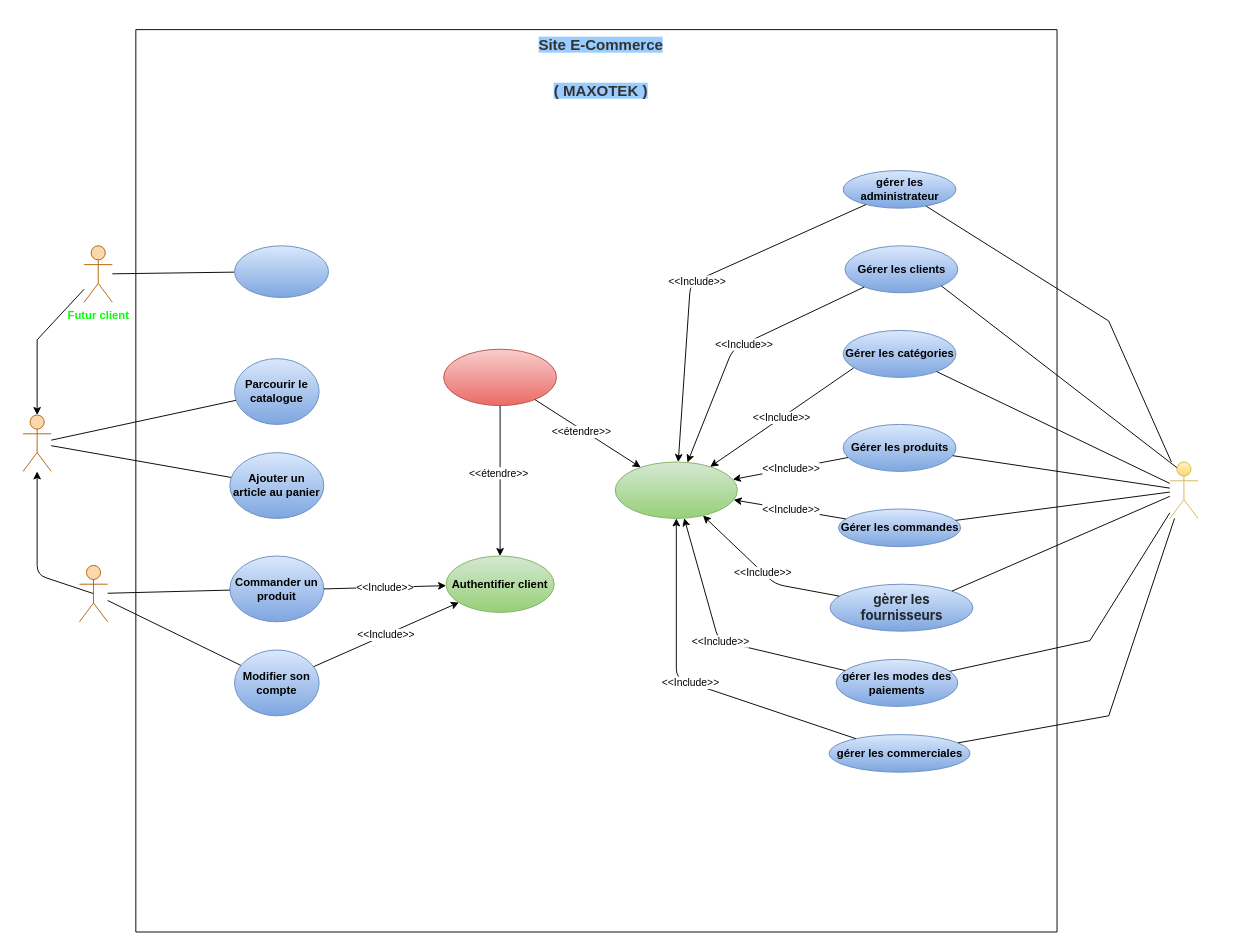
Image size: 1240x948. Some labels were removed from this diagram. Each missing label, with the box of its shape:
Administrateur: (1169, 461, 1198, 518)
Afficher l'erreur de connexion: (443, 348, 556, 406)
Authentifier admin: (614, 461, 737, 518)
Client: (78, 564, 108, 622)
Créer un compte: (234, 245, 329, 298)
Visiteur: (22, 414, 51, 471)
